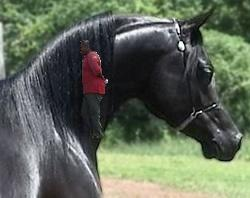tampered: (81, 41, 108, 138)
